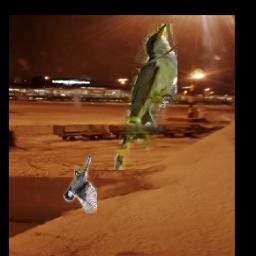Cuckoo: (114, 25, 177, 171)
Sparrow: (64, 155, 98, 214)
